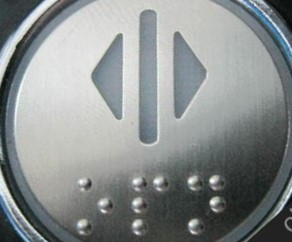Braille: (185, 174, 228, 236), (130, 175, 172, 237), (75, 177, 115, 236)
